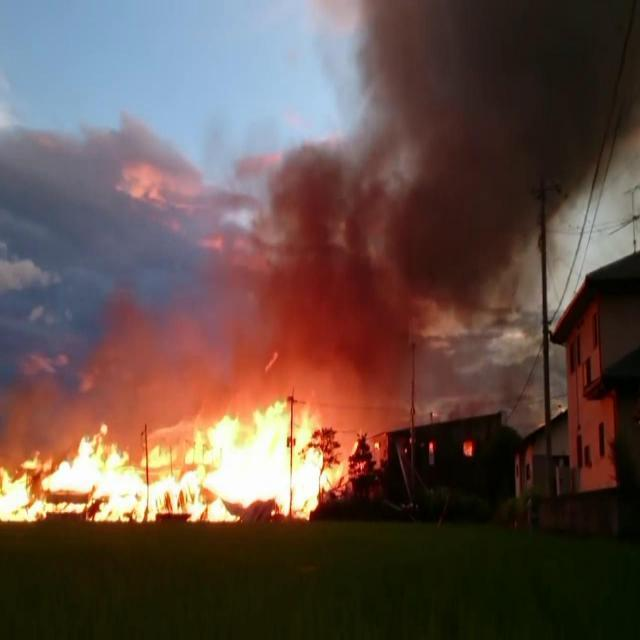Fire: (2, 398, 358, 524), (464, 442, 472, 458), (374, 438, 379, 452)
